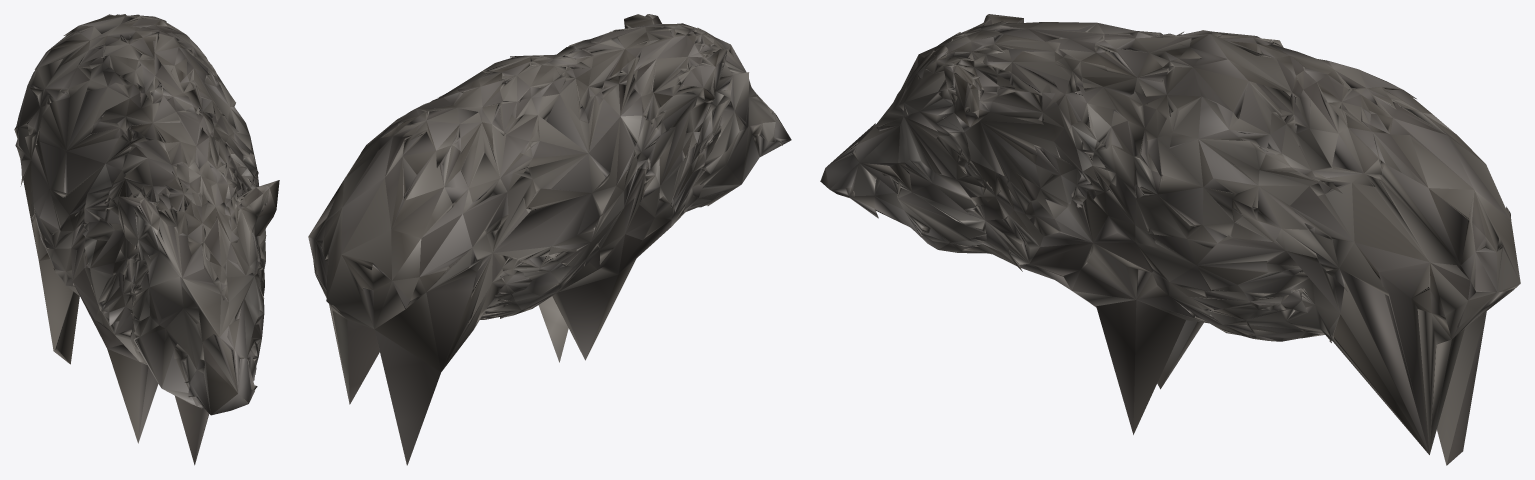
Rendered from javelina.glb.
3 views of the same model, side by side, from view 1: azimuth 30°, elevation 25°; view 2: azimuth 150°, elevation 25°; view 3: azimuth 270°, elevation 25° (orthographic). The views are drawn at different scales.
Visible parts, largest first — view 1: LO.001; view 2: LO.001; view 3: LO.001.
Part boxes in pixels (x1,y1,x2,y2): LO.001: [14, 14, 279, 465]; LO.001: [308, 14, 791, 465]; LO.001: [820, 14, 1520, 465].
Size of the model in its own units: 0.8407 by 1.18 by 1.8.
1 material, 1 textured.
